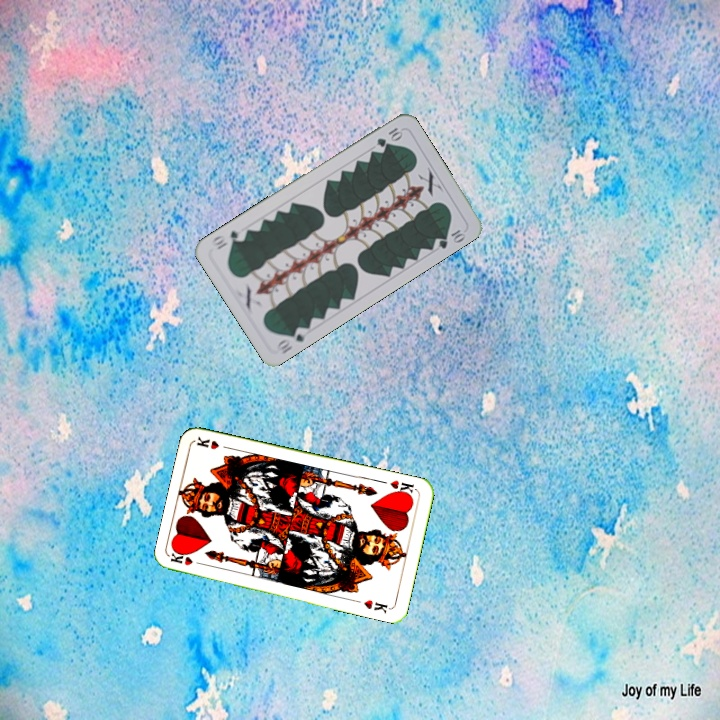G10: (273, 322, 308, 357), (373, 123, 405, 150)
HK: (167, 549, 208, 569), (386, 476, 419, 499)
